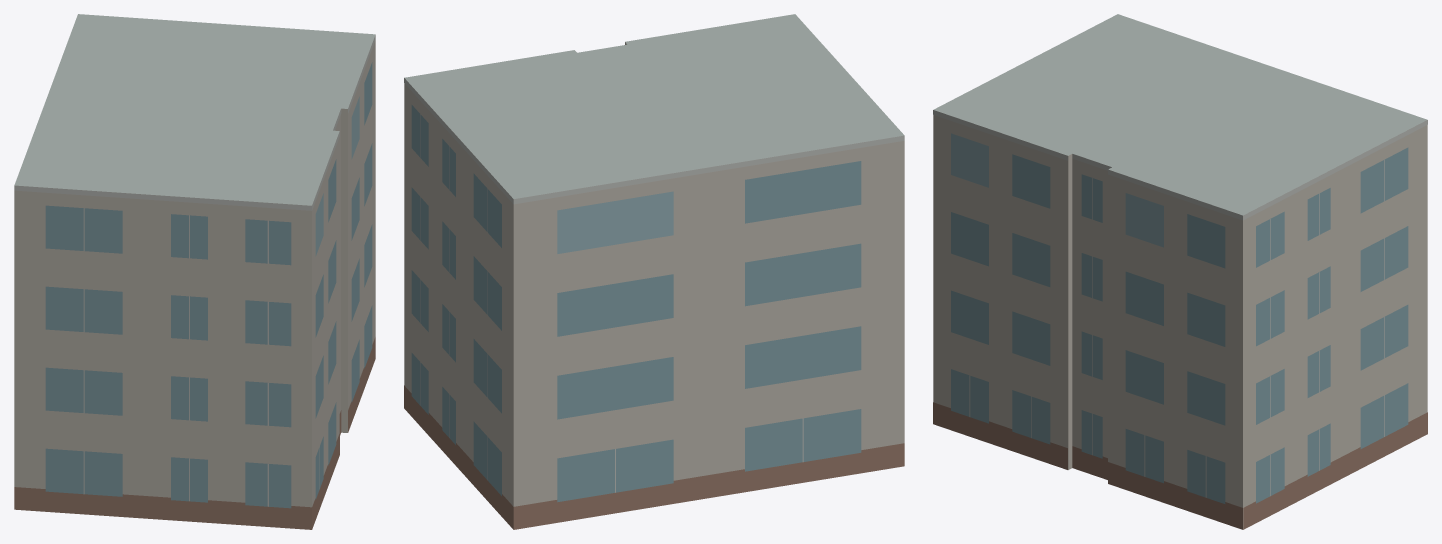
Rendered from survey-upis-32757908.glb.
3 views of the same model, side by side, from view 1: azimuth 30°, elevation 25°; view 2: azimuth 150°, elevation 25°; view 3: azimuth 270°, elevation 25° (orthographic). The views are drawn at different scales.
Visible parts, largest first — view 1: survey-upis-32757908.tmp; view 2: survey-upis-32757908.tmp; view 3: survey-upis-32757908.tmp.
Part boxes in pixels (<box>): survey-upis-32757908.tmp: <box>14,14,375,529</box>; survey-upis-32757908.tmp: <box>404,14,904,529</box>; survey-upis-32757908.tmp: <box>933,14,1427,529</box>.
Size of the model in its own units: 21.26 by 15.45 by 22.04.
